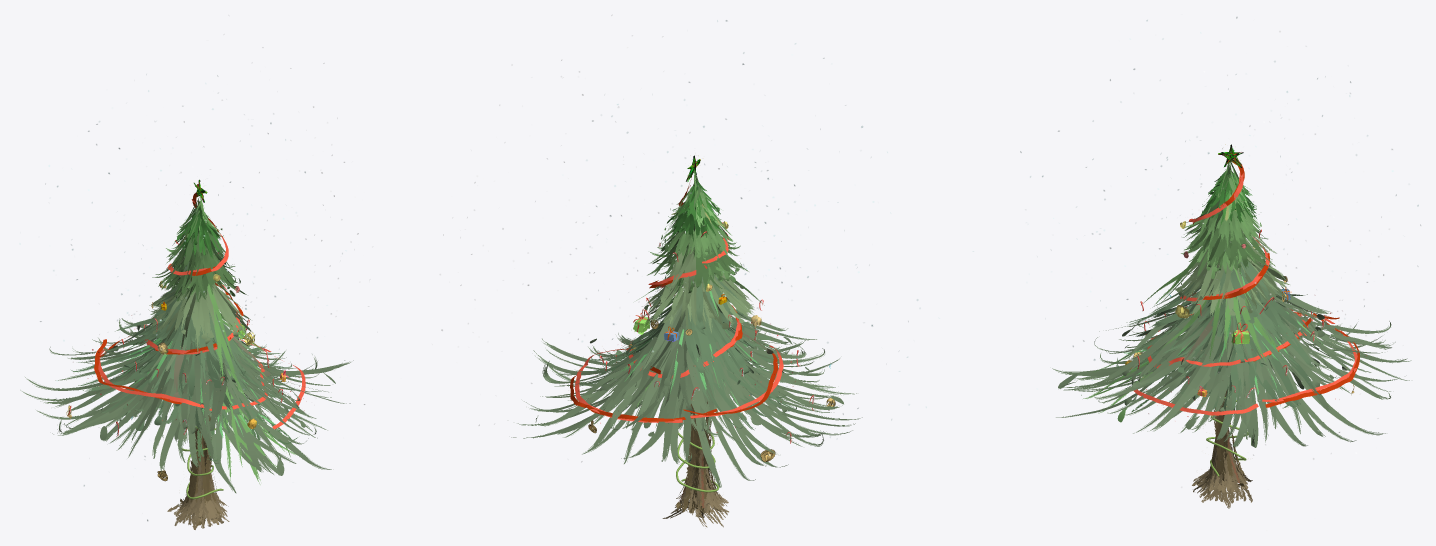
The picture shows the model from 3 angles, left to right: view 1: azimuth 30°, elevation 25°; view 2: azimuth 150°, elevation 25°; view 3: azimuth 270°, elevation 25°; orthographic projection. The views are drawn at different scales.
Parts seen in each view (by area): view 1: brush_Ink_g0_b0_0, brush_Paper_g0_b0_6, brush_ThickPaint_g0_b0_3, brush_OilPaint_g0_b0_4; view 2: brush_Ink_g0_b0_0, brush_Paper_g0_b0_6, brush_ThickPaint_g0_b0_3; view 3: brush_Ink_g0_b0_0, brush_Paper_g0_b0_6, brush_ThickPaint_g0_b0_3.
Boxes of the visible parts, box(x1,y1,x2,y2) form: brush_Ink_g0_b0_0: box(20, 195, 353, 493); brush_Paper_g0_b0_6: box(94, 193, 305, 429); brush_ThickPaint_g0_b0_3: box(167, 277, 290, 529); brush_OilPaint_g0_b0_4: box(180, 435, 221, 525); brush_Ink_g0_b0_0: box(511, 170, 862, 487); brush_Paper_g0_b0_6: box(570, 176, 783, 422); brush_ThickPaint_g0_b0_3: box(662, 322, 760, 527); brush_Ink_g0_b0_0: box(1052, 151, 1411, 447); brush_Paper_g0_b0_6: box(1125, 164, 1359, 415); brush_ThickPaint_g0_b0_3: box(1125, 324, 1252, 508).
Size of the model in its own units: 2.64 by 3.31 by 2.71.
Materials: 12 (10 with a texture image).
